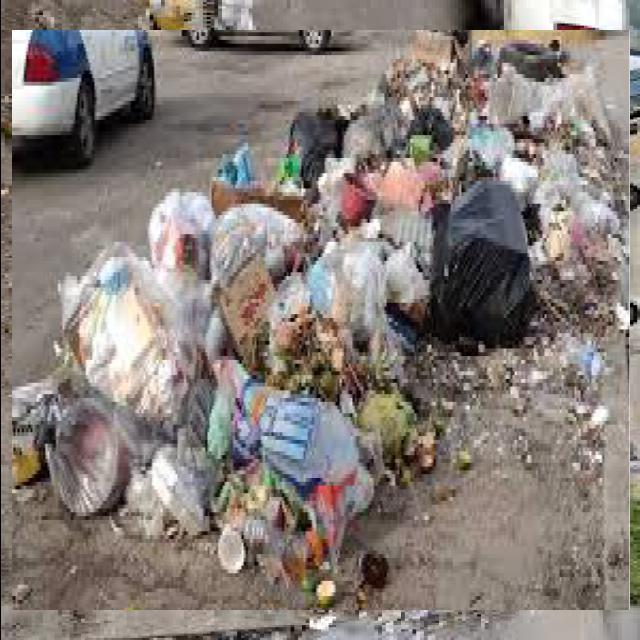Trashbag: (419, 180, 546, 342)
